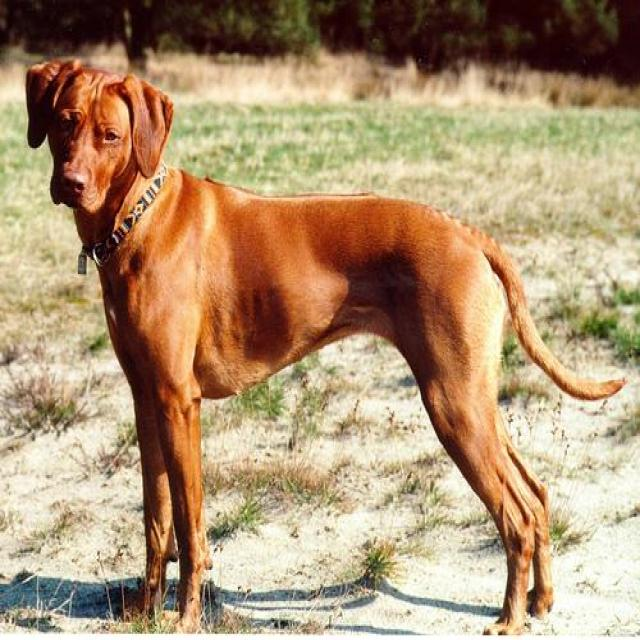good: (20, 32, 626, 630)
